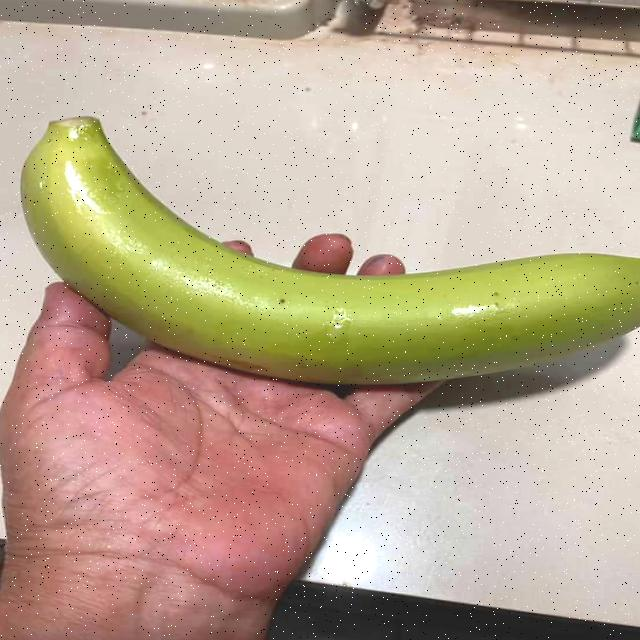Raw: (13, 102, 640, 414)
